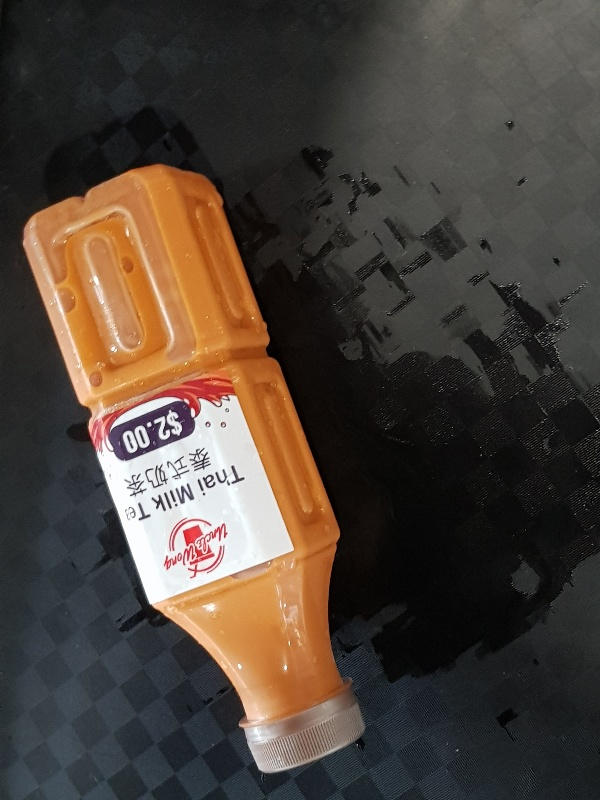Thai Milk Tea: (22, 160, 368, 775)
